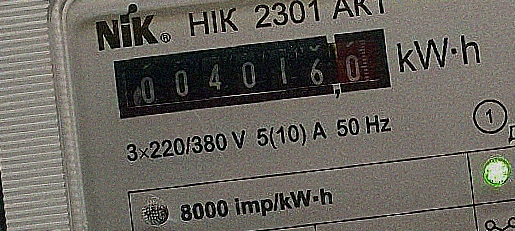0: (236, 56, 260, 93), (135, 71, 159, 106), (169, 65, 192, 100), (340, 50, 363, 84)
1: (273, 51, 292, 87)
4: (203, 58, 224, 94)
6: (304, 53, 326, 87)
screen: (104, 21, 400, 127)
